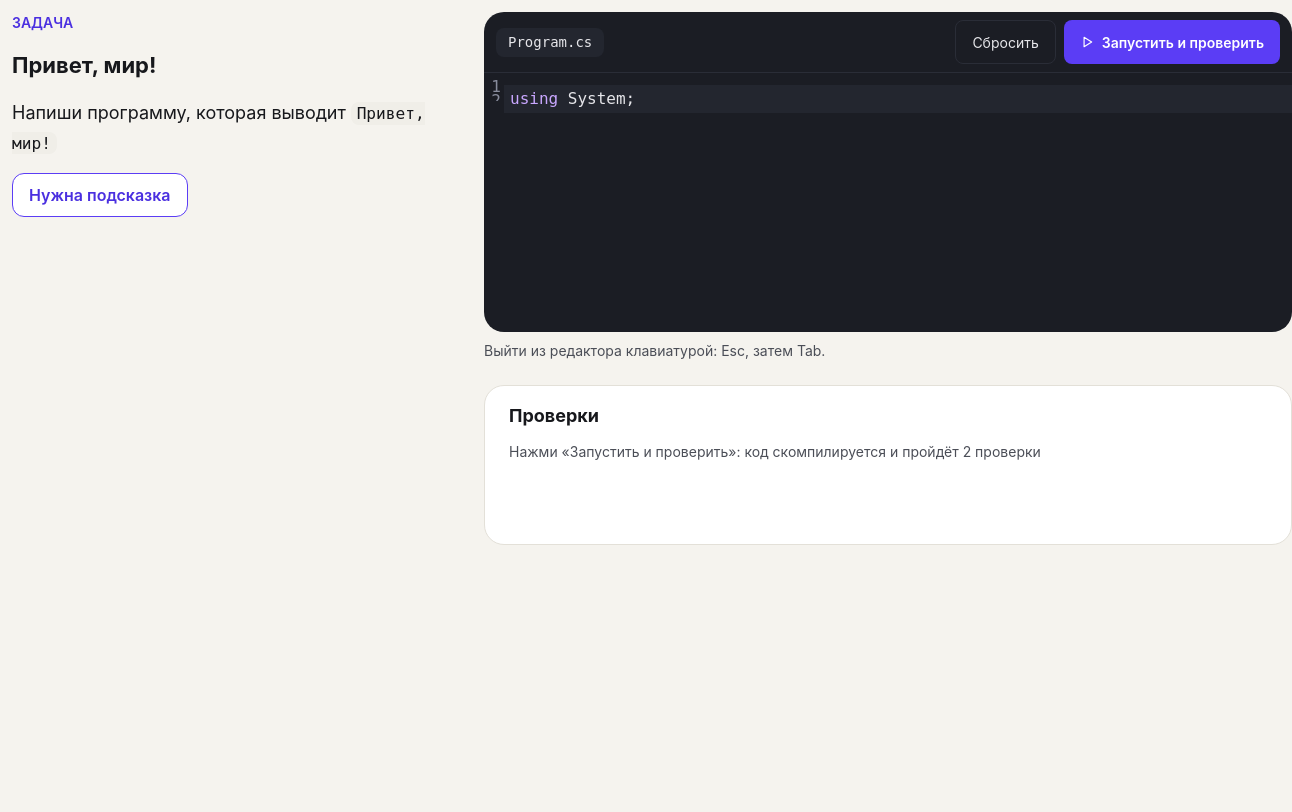
Test: LessonTask › проверка с другими значениями: подпись, почему не подменилось, вывод — из обычного запуска
The width and height of the screenshot is (1292, 812).
Click the button "Запустить и проверить". click: click(1172, 42)
box: [1064,20,1280,64]
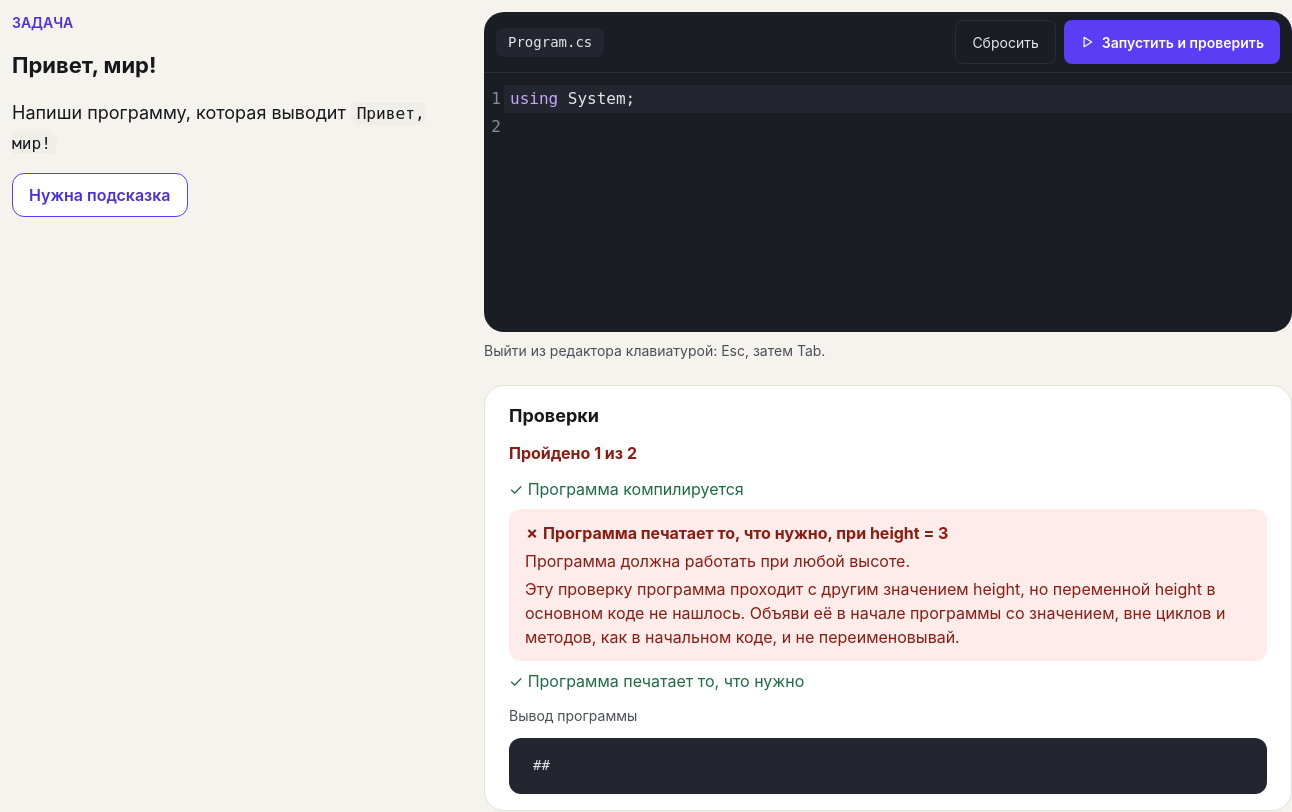
Now the text "✗ Программа печатает то, что нужно, при height = 3" is shown, box [525,523,948,543]
Now the text "Программа должна работать при любой высоте." is shown, box [525,551,910,571]
Now the text "переменной height в основном коде не нашлось" is shown, box [525,579,1225,647]
